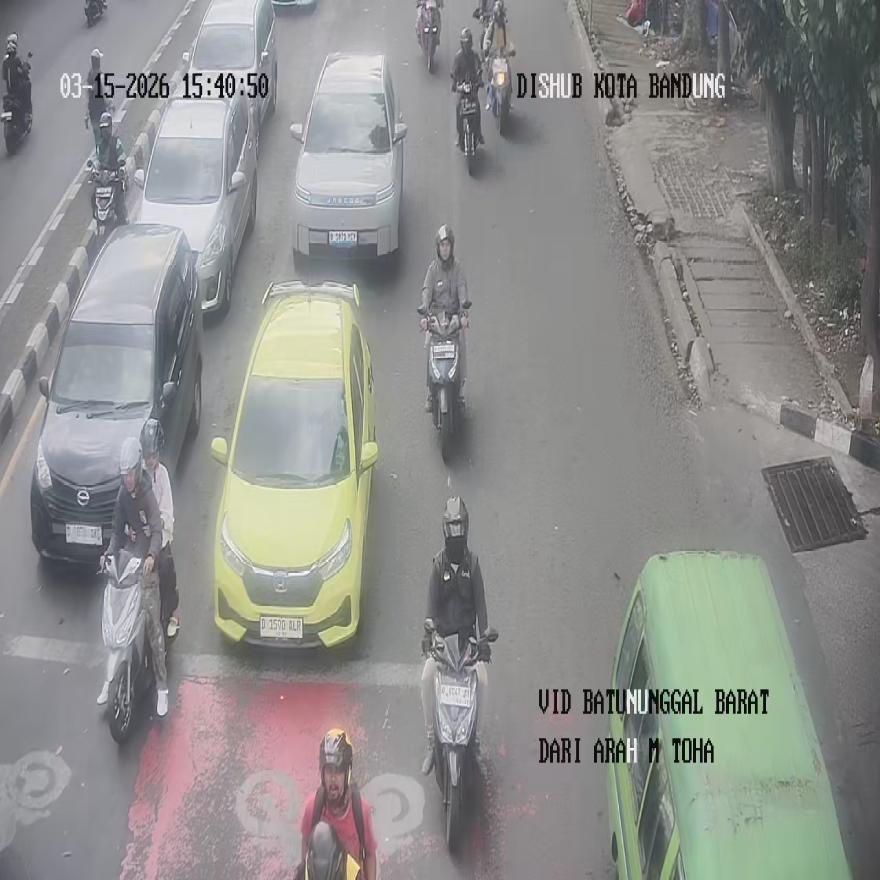Mobil: (605, 550, 854, 879), (209, 278, 378, 646), (30, 224, 201, 564), (129, 92, 257, 316), (290, 50, 406, 259), (183, 0, 277, 150)
Motor: (421, 620, 496, 850), (98, 551, 162, 743), (420, 300, 470, 460), (0, 56, 33, 155), (86, 157, 126, 234), (454, 80, 482, 173), (415, 0, 442, 73), (488, 52, 512, 134), (84, 82, 113, 148), (84, 0, 106, 27)
